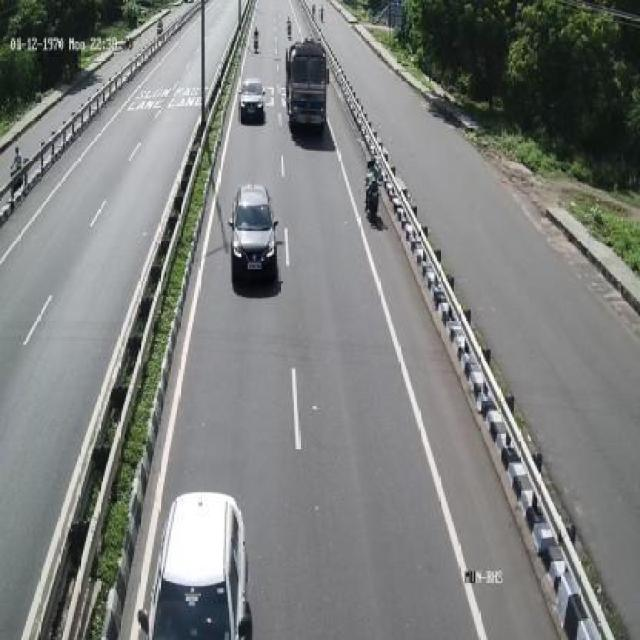car: (230, 175, 282, 288), (238, 71, 270, 129)
